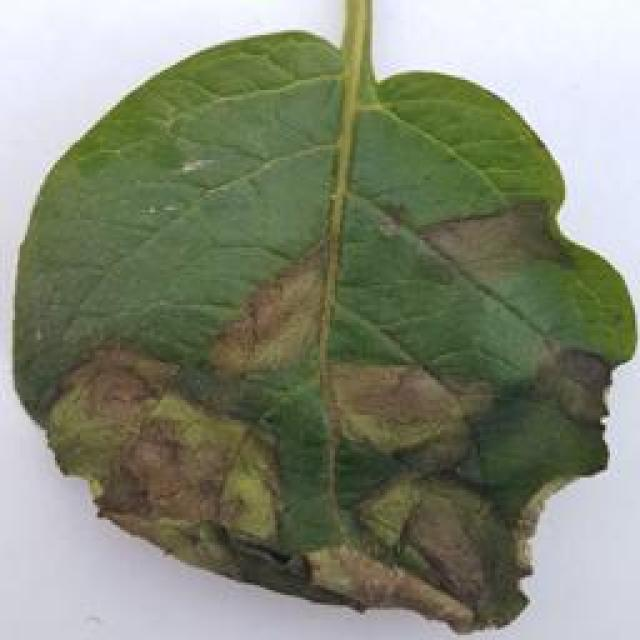Potato_Late_Blight: (13, 27, 623, 630)
